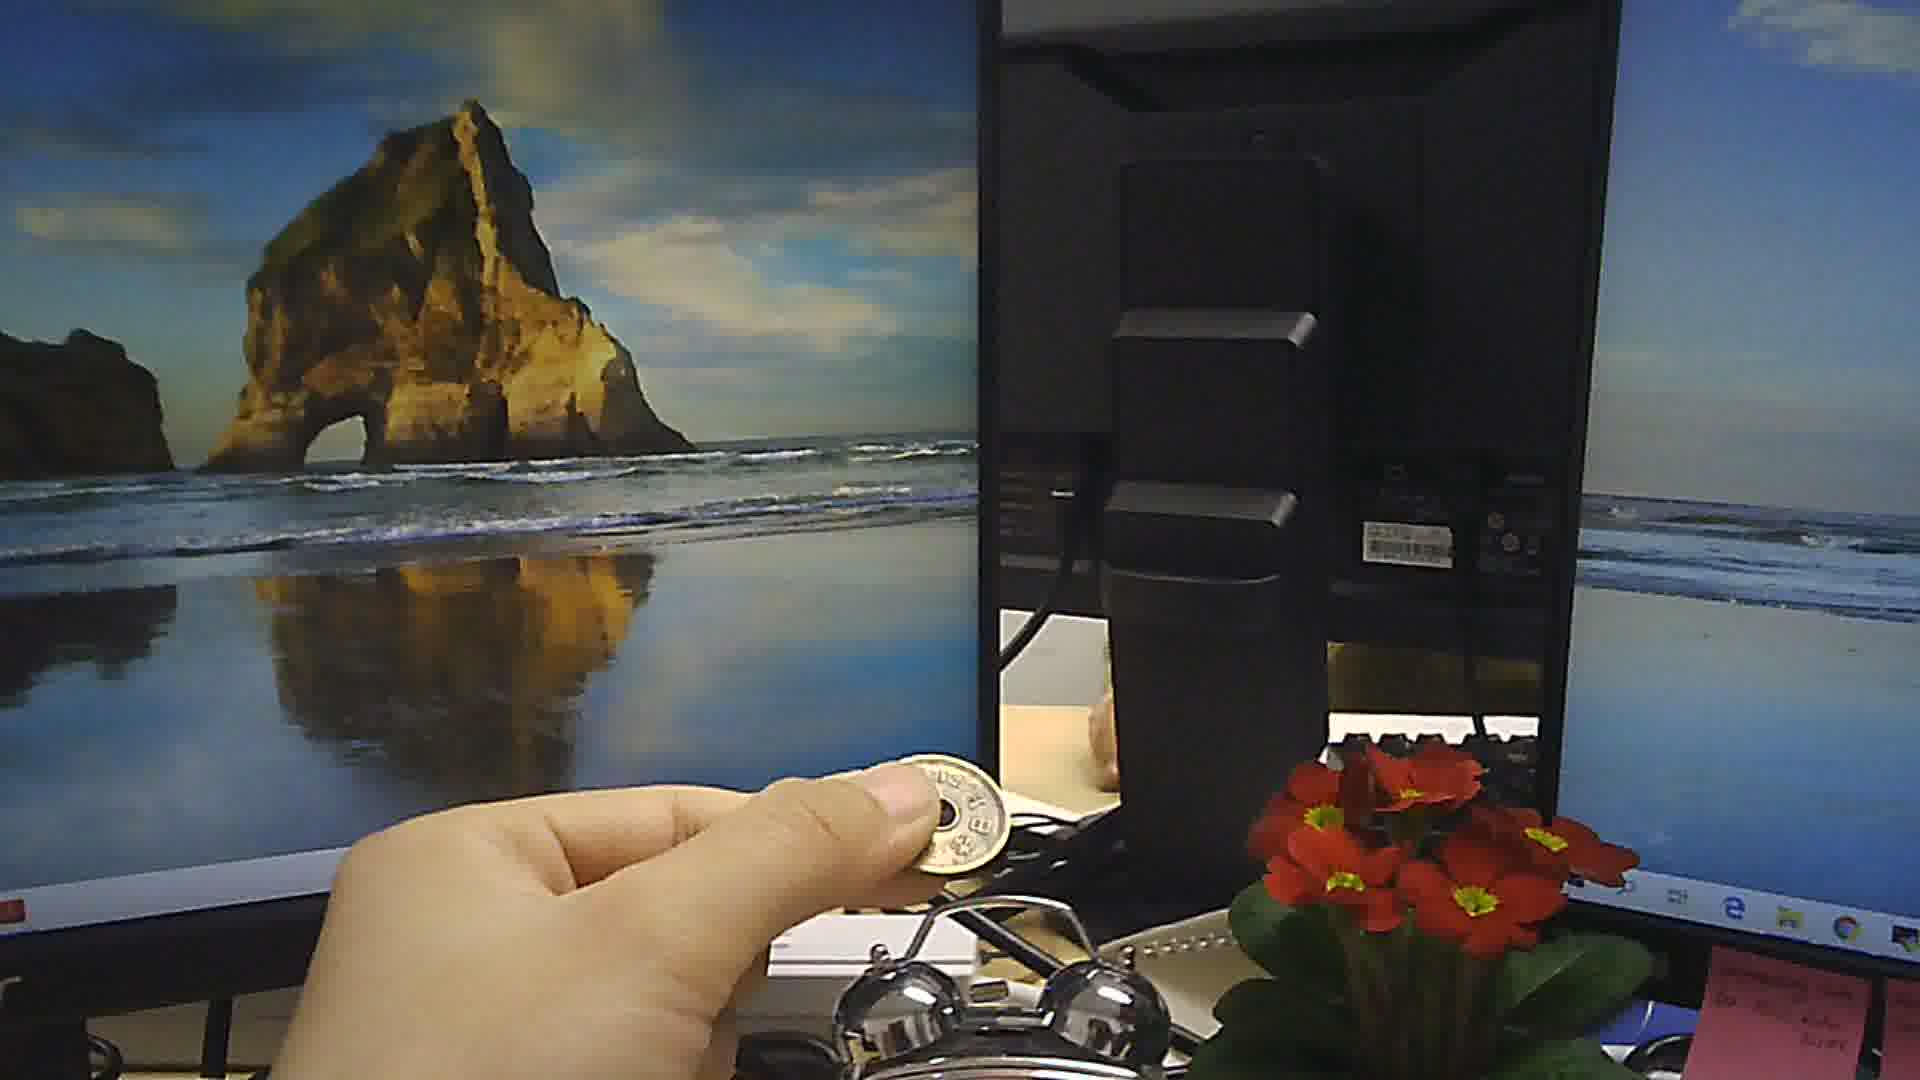5 Yen: (877, 746, 1018, 881)
